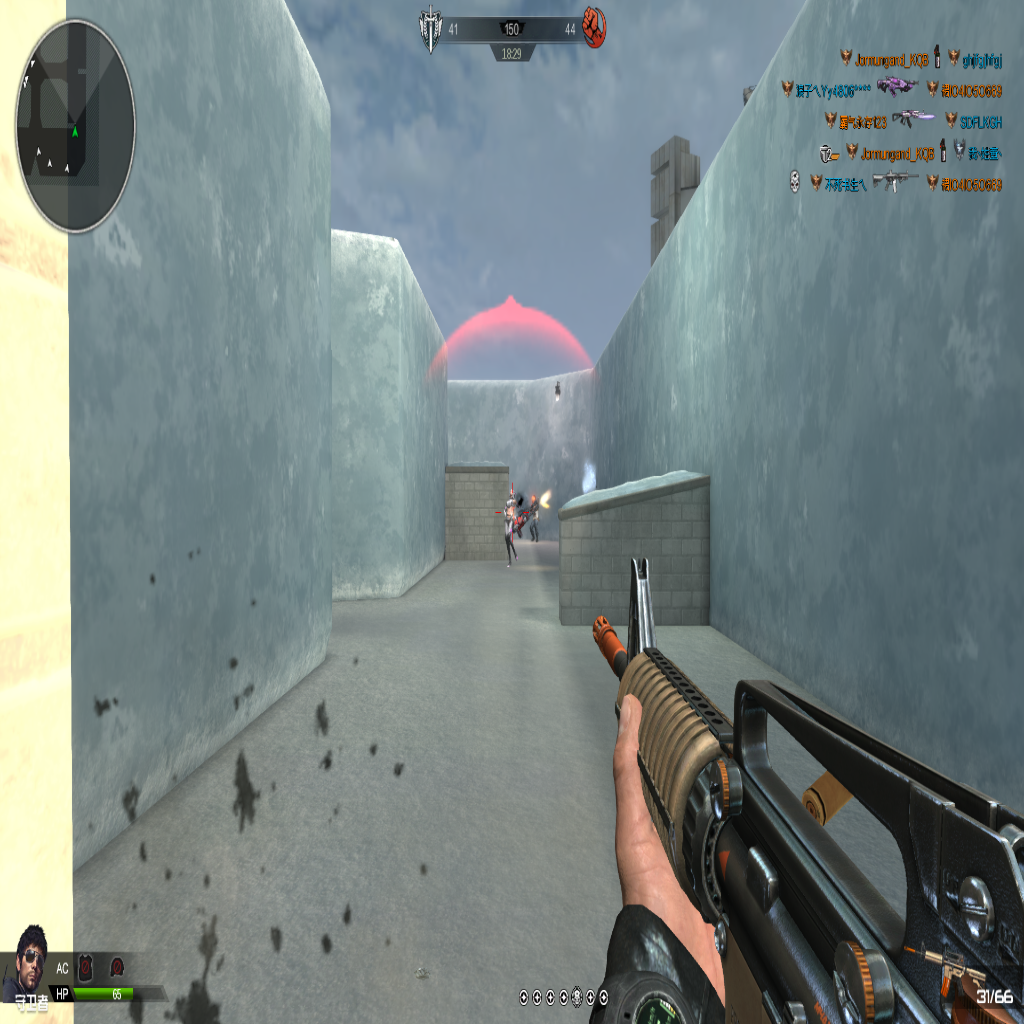tt: (502, 495, 516, 566)
